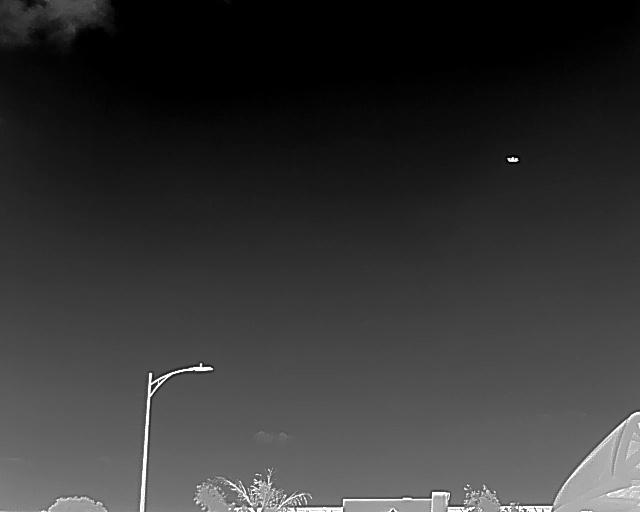fpv-drone: (505, 155, 520, 164)
